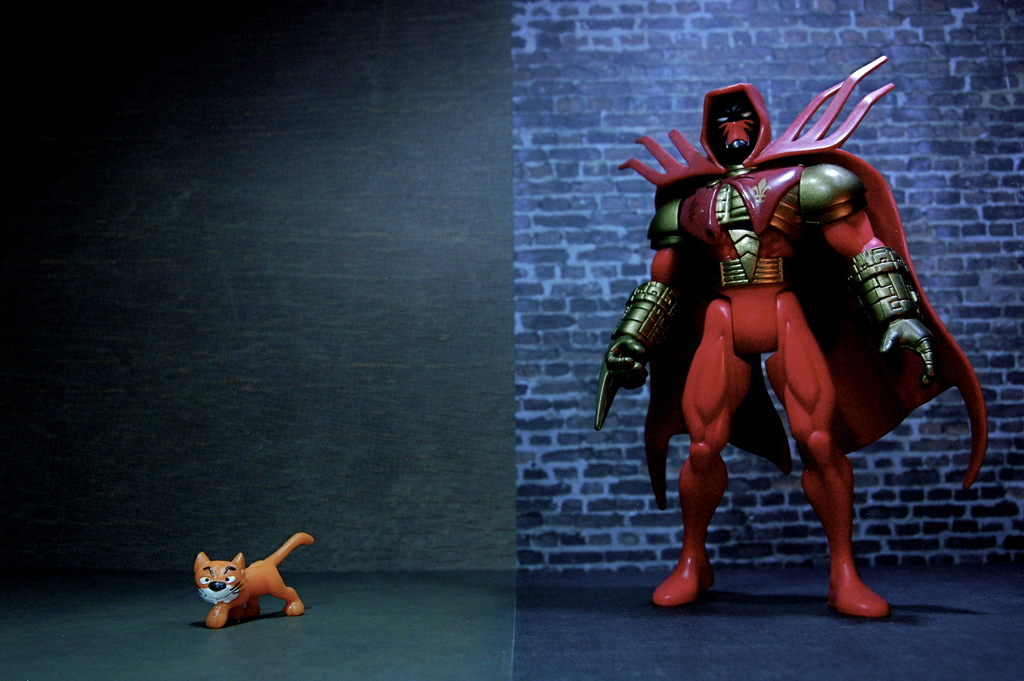Animal: (190, 525, 315, 632)
